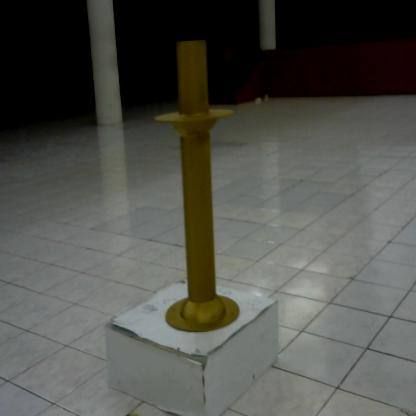pole: (148, 36, 247, 339)
